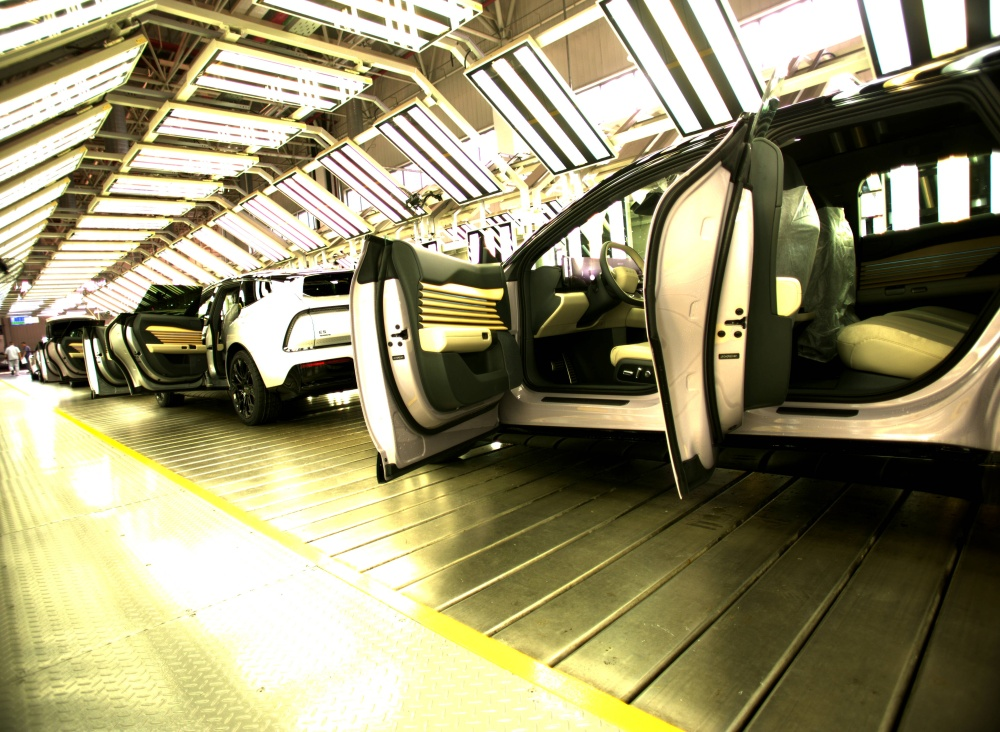armrest_color: (416, 325, 494, 354)
panel_color: (417, 276, 510, 332)
